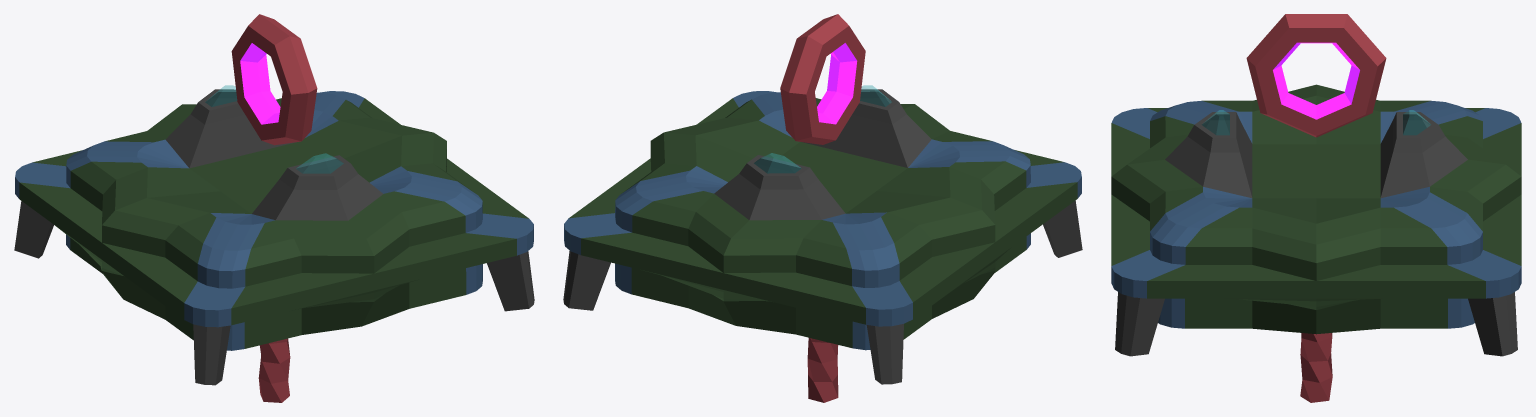
The model's file is Drone.glb.
3 views of the same model, side by side, from view 1: azimuth 30°, elevation 25°; view 2: azimuth 150°, elevation 25°; view 3: azimuth 270°, elevation 25° (orthographic). The views are drawn at different scales.
Parts seen in each view (by area): view 1: Drone, DroneEye, DroneCannon; view 2: Drone, DroneEye, DroneCannon; view 3: Drone, DroneEye, DroneCannon.
Part boxes in pixels (x1,y1,x2,y2): Drone: (14,85,534,385); DroneEye: (231,14,317,145); DroneCannon: (258,338,290,402); Drone: (563,85,1082,384); DroneEye: (780,14,865,144); DroneCannon: (807,338,838,402); Drone: (1111,84,1521,356); DroneEye: (1246,14,1386,137); DroneCannon: (1300,333,1332,402).
Bounding box in the file's own units: 1.6 × 1.65 × 1.6.
